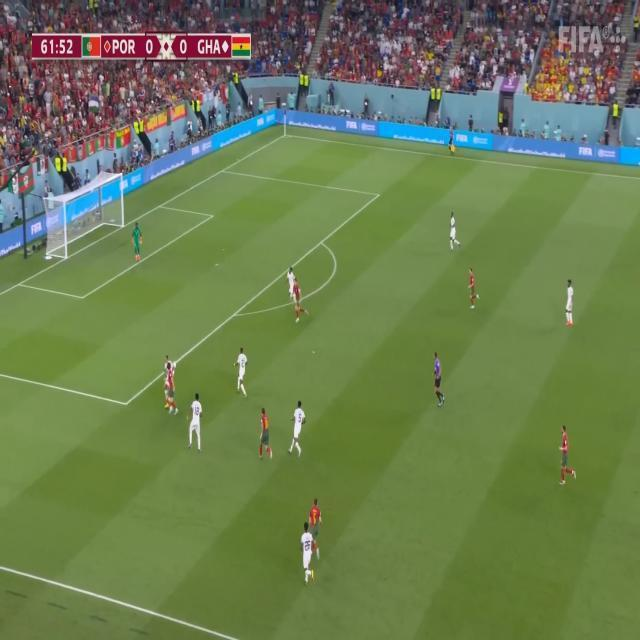player: (557, 422, 579, 488), (299, 523, 320, 587), (232, 341, 253, 402), (290, 395, 308, 462), (187, 387, 202, 450), (562, 277, 578, 334), (292, 276, 309, 328), (258, 404, 273, 461), (447, 209, 462, 260), (129, 221, 144, 266), (468, 266, 481, 314), (167, 362, 177, 420), (286, 263, 296, 309), (308, 497, 324, 524)
